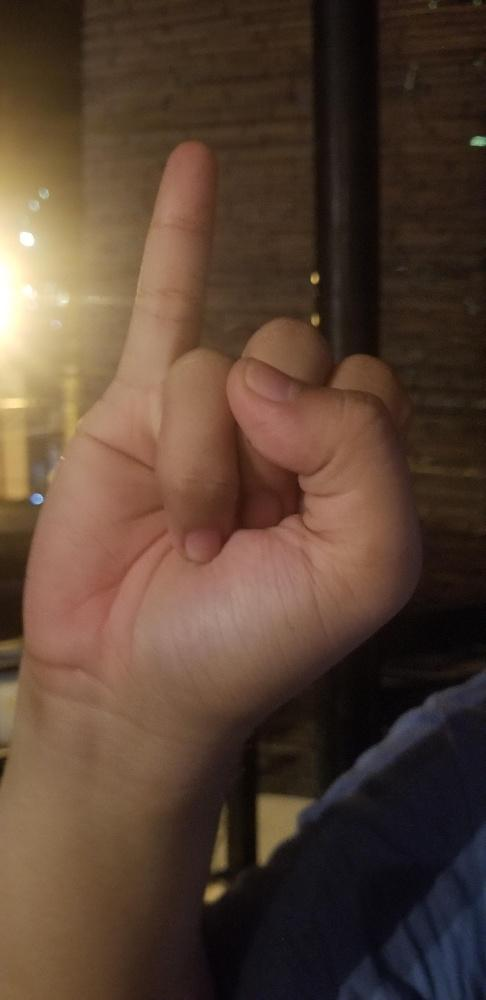i: (19, 138, 428, 718)
